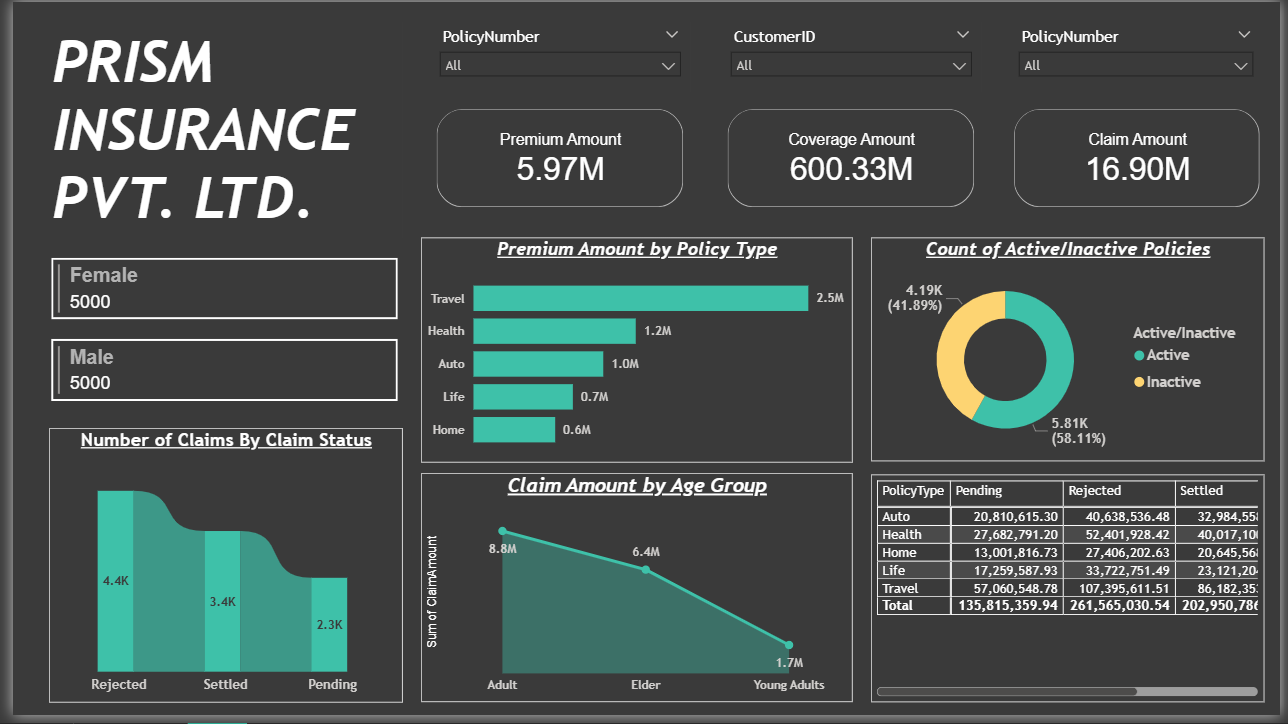

The dashboard page shown, as its layout file describes it:
{"tool":"powerbi","page":{"name":"Page 1","canvas":[1280,720],"ordinal":0},"visuals":[{"type":"slicer","fields":{"Values":["InsuranceData.PolicyNumber"]},"box":[421.7,20,263.3,83.3],"z":0},{"type":"slicer","fields":{"Values":["InsuranceData.CustomerID"]},"box":[715,20,263.3,81.7],"z":1000},{"type":"slicer","fields":{"Values":["InsuranceData.PolicyNumber"]},"box":[1006.7,20,256.7,81.7],"z":2000},{"type":"textbox","box":[35,20,358.3,218.3],"z":3000},{"type":"cardVisual","fields":{"Data":["Sum(InsuranceData.PremiumAmount)"]},"box":[411.3,90.3,283.9,133.9],"z":4000},{"type":"cardVisual","fields":{"Data":["Sum(InsuranceData.CoverageAmount)"]},"box":[704.8,90.3,283.9,133.9],"z":5000},{"type":"cardVisual","fields":{"Data":["Sum(InsuranceData.ClaimAmount)"]},"box":[993.5,90.3,282.3,133.9],"z":6000},{"type":"multiRowCard","fields":{"Values":["InsuranceData.Gender","CountNonNull(InsuranceData.Gender)"]},"box":[33.3,253.3,360,188.3],"z":7000},{"type":"ribbonChart","title":"Number of Claims By Claim Status","fields":{"Category":["InsuranceData.ClaimStatus"],"Y":["CountNonNull(InsuranceData.ClaimStatus)"]},"box":[35.7,430,357.1,277.1],"z":8000},{"type":"barChart","title":"Premium Amount by Policy Type","fields":{"Category":["InsuranceData.PolicyType"],"Y":["Sum(InsuranceData.PremiumAmount)"]},"box":[411.4,237.1,435.7,227.1],"z":9000},{"type":"lineChart","title":"Claim Amount by Age Group","fields":{"Category":["InsuranceData.Age Group"],"Y":["Sum(InsuranceData.ClaimAmount)"]},"box":[411.4,475.7,435.7,231.4],"z":10000},{"type":"donutChart","title":"Count of Active/Inactive Policies","fields":{"Category":["InsuranceData.Active/Inactive"],"Y":["CountNonNull(InsuranceData.Active/Inactive)"]},"box":[867.1,238.6,397.1,225.7],"z":11000},{"type":"pivotTable","fields":{"Values":["Sum(InsuranceData.CoverageAmount)"],"Rows":["InsuranceData.PolicyType"],"Columns":["InsuranceData.ClaimStatus"]},"box":[867.1,477.1,397.1,230],"z":12000}]}

Visuals, with their boxes in screenshot pixels (x1, y1, x2, y2), scaled from the page's 1280x720 canvas onto the 1288x724 screenshot:
slicer - InsuranceData.PolicyNumber: (424, 20, 689, 104)
slicer - InsuranceData.CustomerID: (719, 20, 984, 102)
slicer - InsuranceData.PolicyNumber: (1013, 20, 1271, 102)
textbox: (35, 20, 396, 240)
cardVisual - Sum(InsuranceData.PremiumAmount): (414, 91, 700, 225)
cardVisual - Sum(InsuranceData.CoverageAmount): (709, 91, 995, 225)
cardVisual - Sum(InsuranceData.ClaimAmount): (1000, 91, 1284, 225)
multiRowCard - InsuranceData.Gender x CountNonNull(InsuranceData.Gender): (34, 255, 396, 444)
"Number of Claims By Claim Status" ribbonChart: (36, 432, 395, 711)
"Premium Amount by Policy Type" barChart: (414, 238, 852, 467)
"Claim Amount by Age Group" lineChart: (414, 478, 852, 711)
"Count of Active/Inactive Policies" donutChart: (873, 240, 1272, 467)
pivotTable - Sum(InsuranceData.CoverageAmount) x InsuranceData.PolicyType: (873, 480, 1272, 711)
